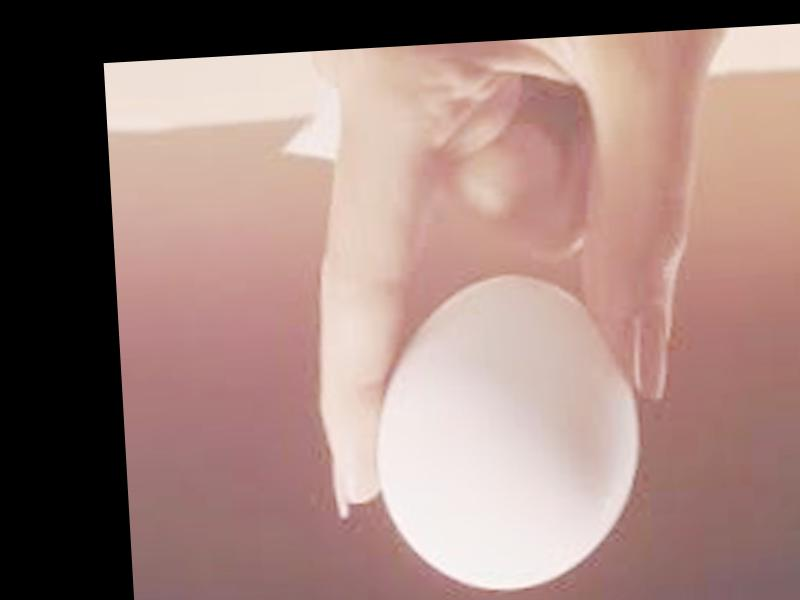Eggs: (367, 264, 651, 594)
